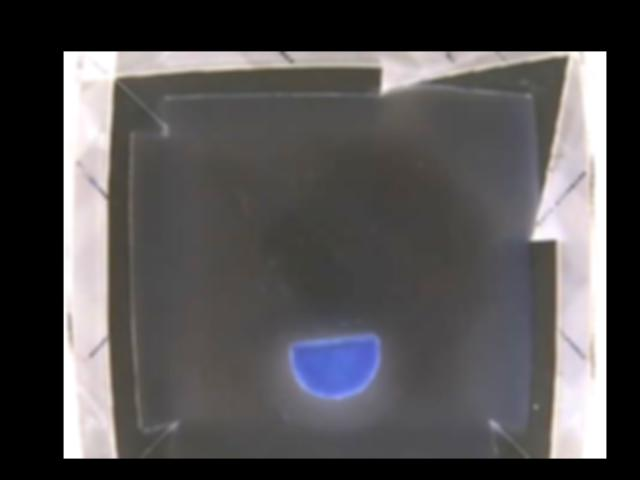Potato: (288, 331, 382, 398)
